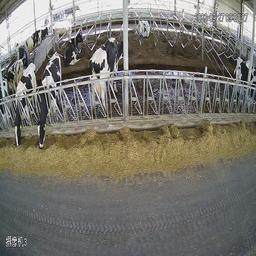cow: (89, 33, 122, 116), (38, 51, 62, 149), (13, 66, 34, 149), (63, 29, 84, 66), (26, 27, 53, 53), (5, 58, 22, 89), (49, 18, 72, 40), (136, 16, 152, 41), (18, 44, 29, 64), (13, 38, 28, 51)
